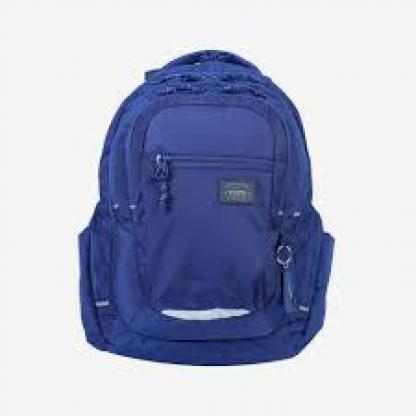morral: (61, 22, 351, 383)
